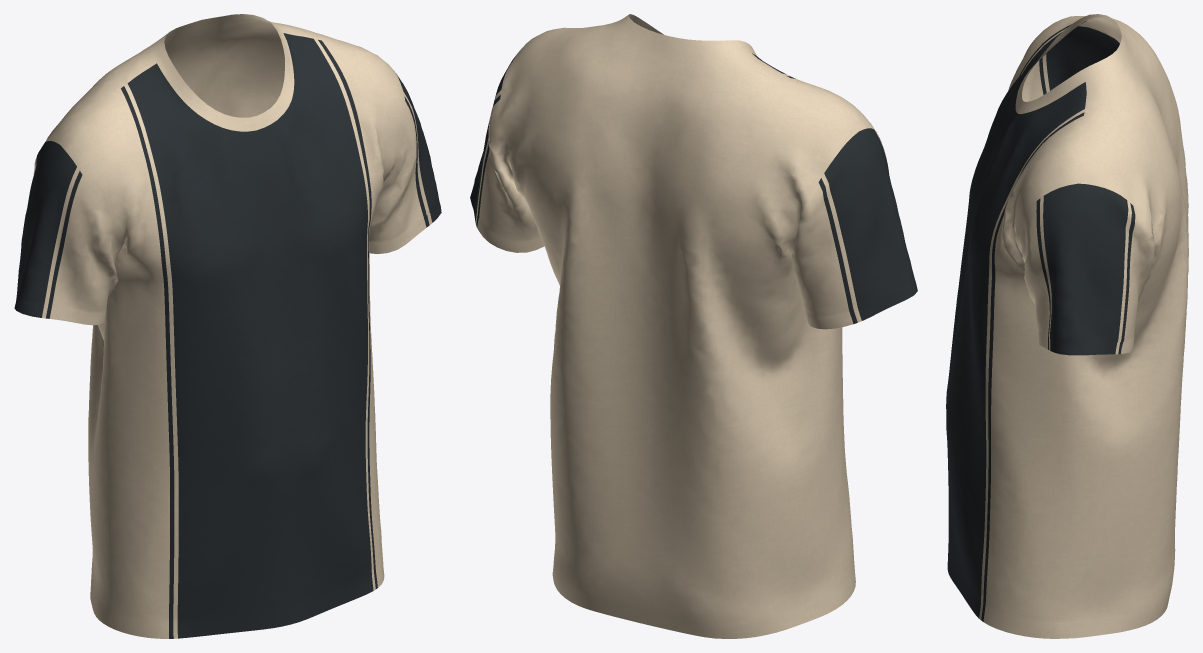
The model's file is mens_t_shirt.glb.
3 renders of one model, left to right at view 1: azimuth 30°, elevation 25°; view 2: azimuth 150°, elevation 25°; view 3: azimuth 270°, elevation 25°, orthographic. The views are drawn at different scales.
Visible parts, largest first — view 1: Mens T-Shirt; view 2: Mens T-Shirt; view 3: Mens T-Shirt.
Boxes of the visible parts, x1,y1,x2,y2 form: Mens T-Shirt: (14, 14, 441, 638); Mens T-Shirt: (470, 14, 917, 638); Mens T-Shirt: (946, 14, 1188, 638).
Bounding box in the file's own units: 0.5637 × 0.7018 × 0.2836.
Materials: 3 (3 with a texture image).
